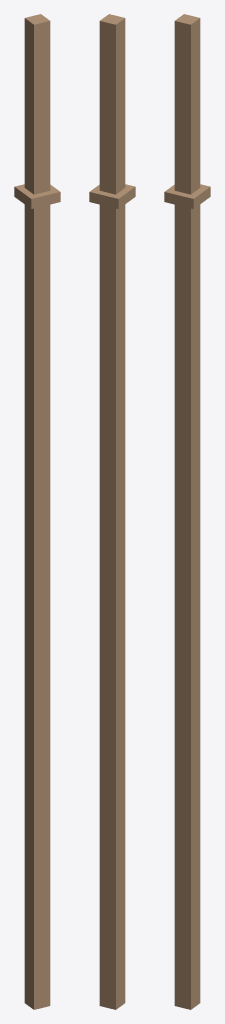
File: MinecartMayhemPost.glb
The picture shows the model from 3 angles, left to right: view 1: azimuth 30°, elevation 25°; view 2: azimuth 150°, elevation 25°; view 3: azimuth 330°, elevation 25°; orthographic projection.
Parts seen in each view (by area): view 1: Timber; view 2: Timber; view 3: Timber.
Part boxes in pixels (x1=…): Timber: x1=14, y1=14, x2=60, y2=1009; Timber: x1=89, y1=14, x2=135, y2=1009; Timber: x1=164, y1=14, x2=210, y2=1009.
Size of the model in its own units: 0.9 by 29 by 0.9.
